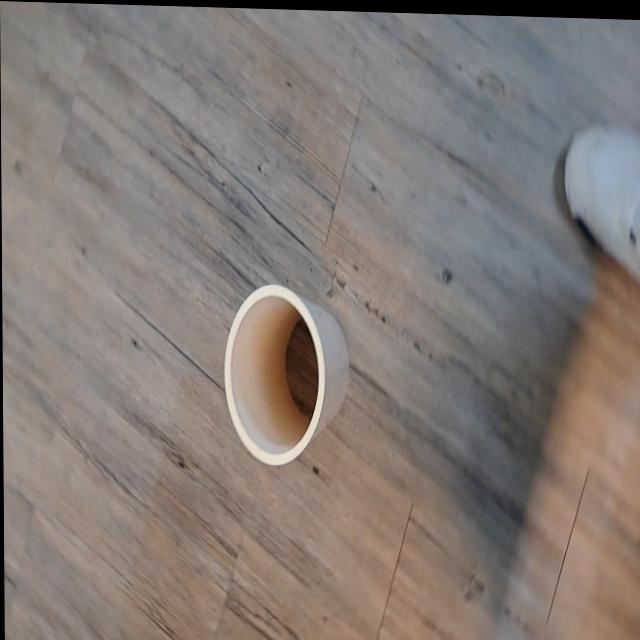CORAL: (214, 247, 373, 496)
